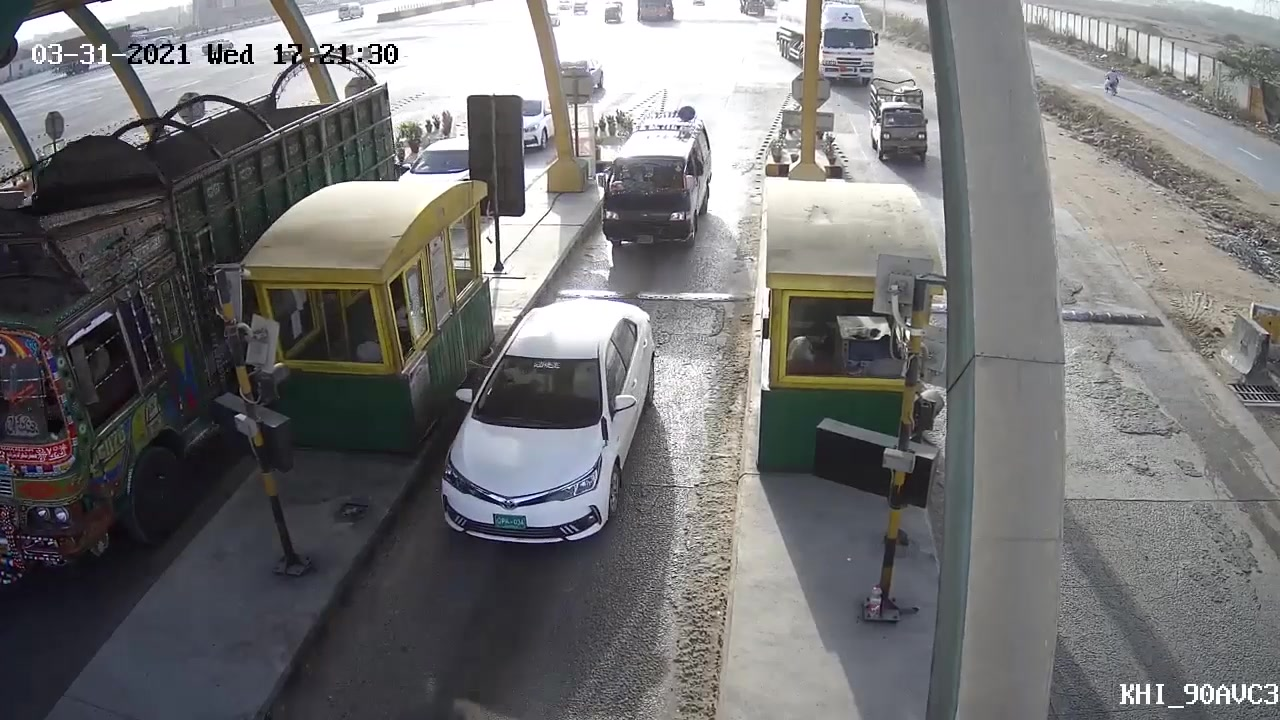F1: (440, 283, 659, 568)
F2: (591, 112, 721, 270)
